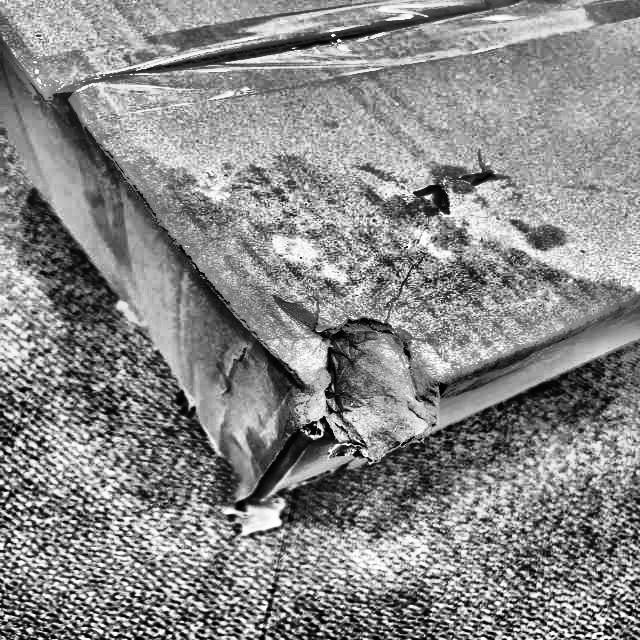box: (0, 0, 639, 527)
wet: (184, 182, 618, 432)
